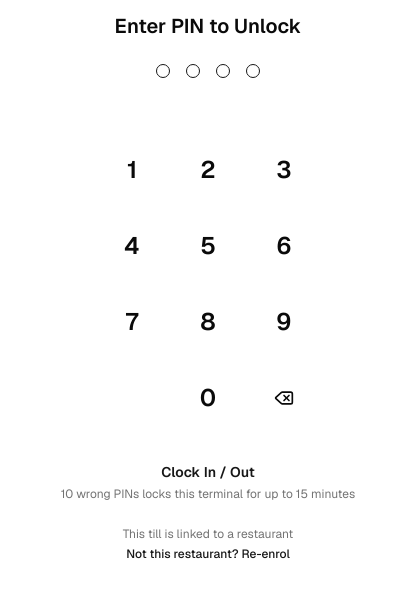
Scenario: PinPad › tells staff plainly when the till was removed (restiq-backend#209)
Click the button with test id "pos-pin-digit-1" at (132, 170), box [100,138,164,202]
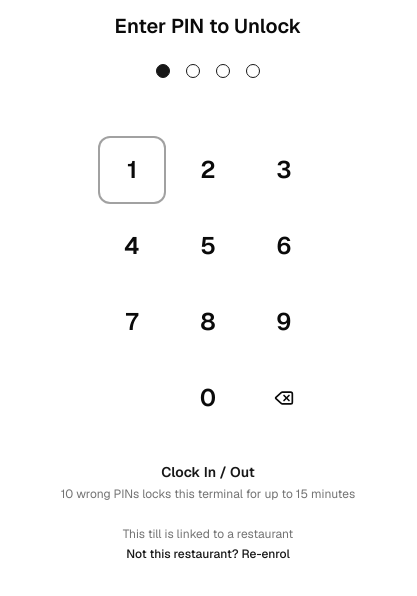
Click the button "2" at (208, 170), box [176,138,240,202]
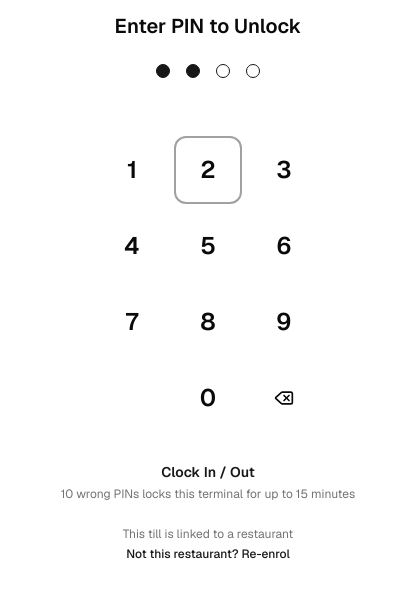
Click the button "3" at (284, 170), box [252,138,316,202]
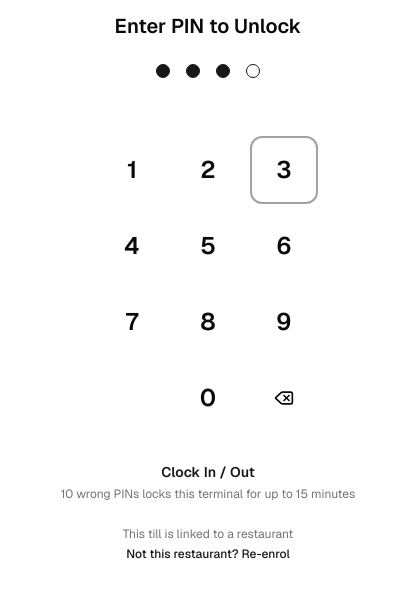
Click the button "4" at (132, 246), box [100,214,164,278]
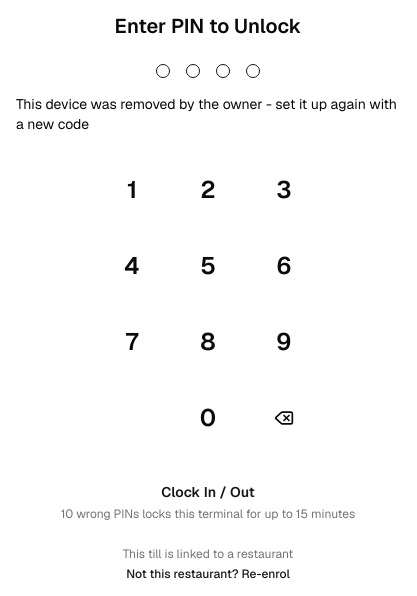
Expected: the text "This device was removed by the owner - set it up again with a new code" is shown, [16,94,400,134]
